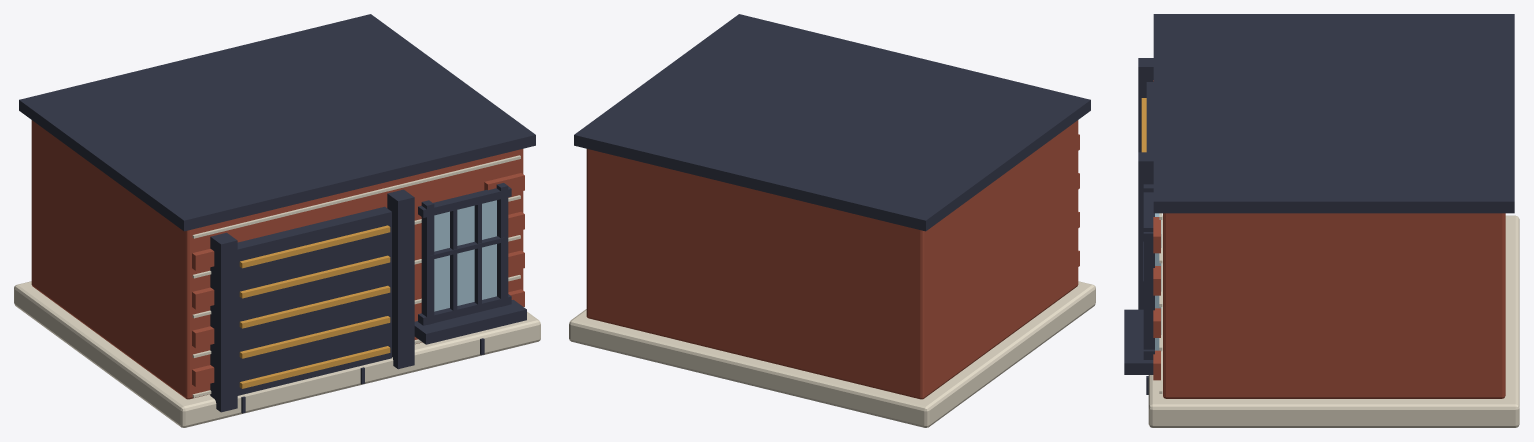
Rendered from base_workshop_works_0.glb.
3 renders of one model, left to right at view 1: azimuth 30°, elevation 25°; view 2: azimuth 150°, elevation 25°; view 3: azimuth 270°, elevation 25°, orthographic. The views are drawn at different scales.
Visible parts, largest first — view 1: base_workshop_works_0 ink, base_workshop_works_0 brick, base_workshop_works_0 mist, base_workshop_works_0 ochre, base_workshop_works_0 glass, base_workshop_works_0 clay, base_workshop_works_0 mortar; view 2: base_workshop_works_0 brick, base_workshop_works_0 ink, base_workshop_works_0 mist; view 3: base_workshop_works_0 ink, base_workshop_works_0 brick, base_workshop_works_0 mist, base_workshop_works_0 clay, base_workshop_works_0 mortar.
Part boxes in pixels (left/top/right/bottom): base_workshop_works_0 ink: left=19, top=14, right=535, bottom=413; base_workshop_works_0 brick: left=31, top=120, right=523, bottom=399; base_workshop_works_0 mist: left=14, top=281, right=540, bottom=427; base_workshop_works_0 ochre: left=239, top=225, right=390, bottom=388; base_workshop_works_0 glass: left=434, top=200, right=496, bottom=311; base_workshop_works_0 clay: left=192, top=173, right=524, bottom=386; base_workshop_works_0 mortar: left=192, top=155, right=520, bottom=397; base_workshop_works_0 brick: left=586, top=120, right=1078, bottom=399; base_workshop_works_0 ink: left=574, top=14, right=1090, bottom=231; base_workshop_works_0 mist: left=569, top=281, right=1095, bottom=427; base_workshop_works_0 ink: left=1124, top=14, right=1514, bottom=394; base_workshop_works_0 brick: left=1163, top=213, right=1505, bottom=398; base_workshop_works_0 mist: left=1148, top=215, right=1519, bottom=427; base_workshop_works_0 clay: left=1153, top=80, right=1160, bottom=380; base_workshop_works_0 mortar: left=1159, top=213, right=1162, bottom=393.
Size of the model in its own units: 0.875 by 0.48 by 0.762.
